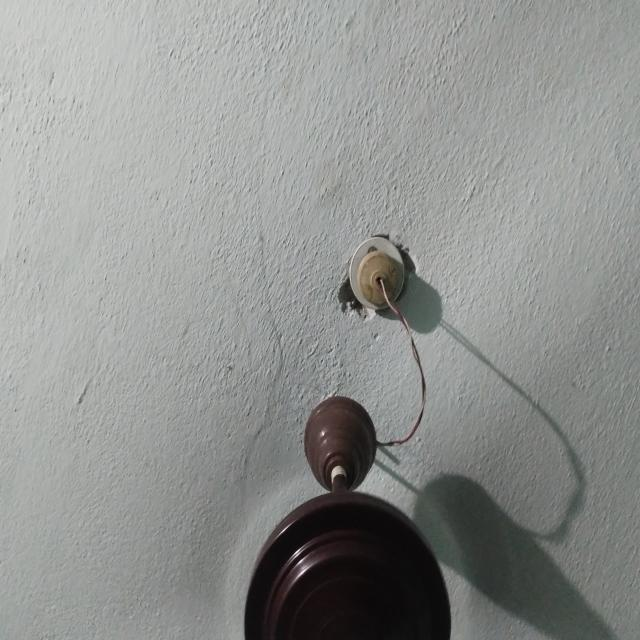fan_on: (3, 320, 640, 640)
